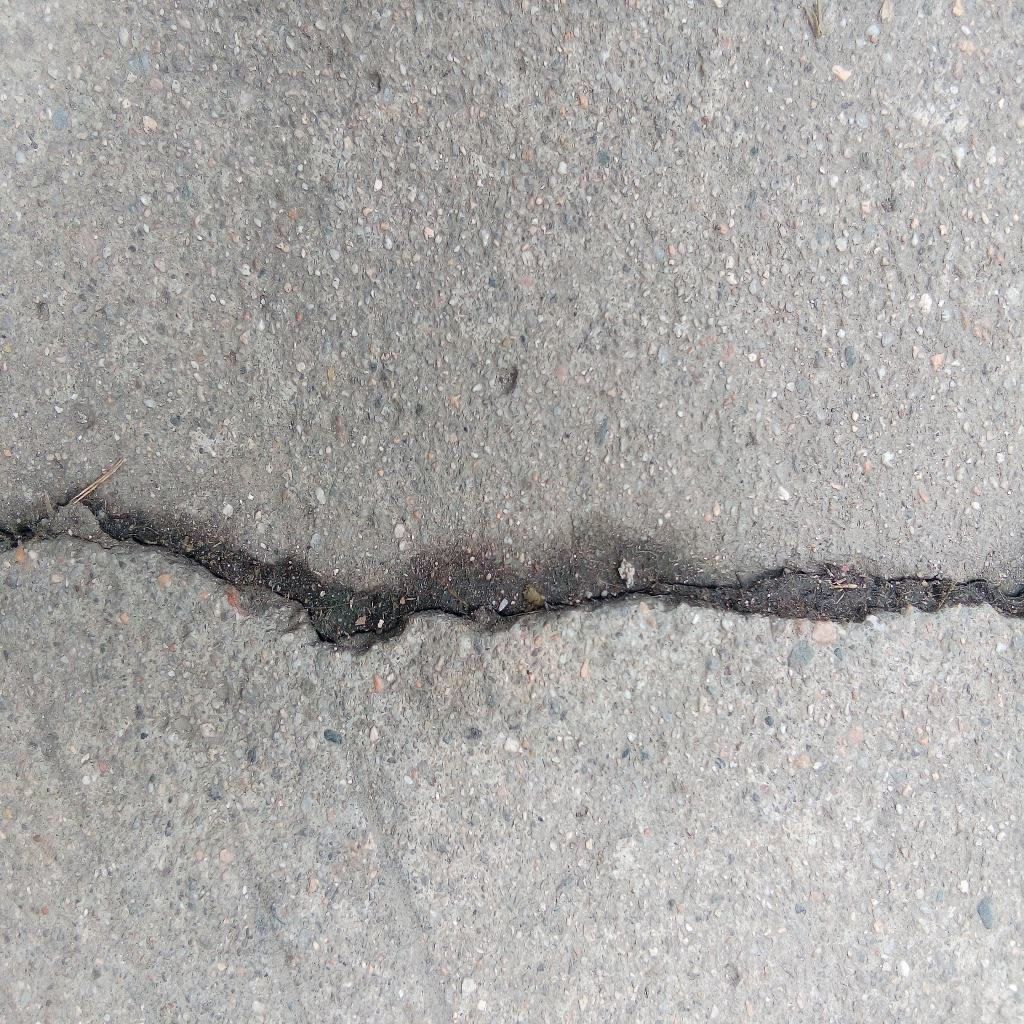Crack: (1, 490, 1024, 660)
